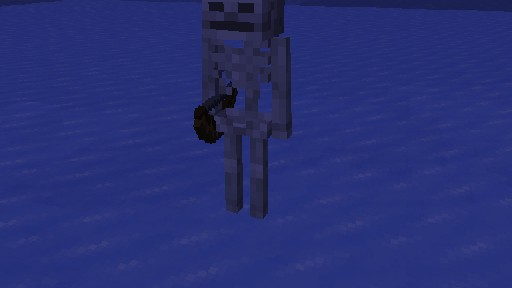skeleton: (192, 0, 291, 219)
